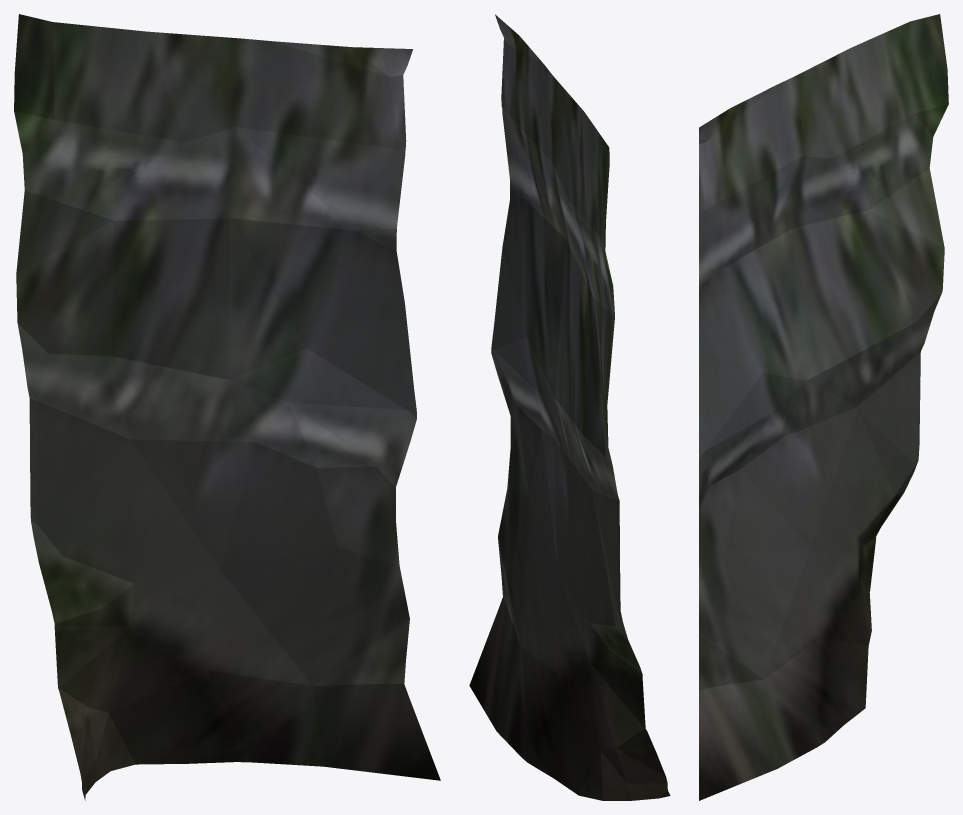
3 renders of one model, left to right at view 1: azimuth 30°, elevation 25°; view 2: azimuth 150°, elevation 25°; view 3: azimuth 270°, elevation 25°, orthographic. The views are drawn at different scales.
Size of the model in its own units: 0.3412 by 0.8373 by 0.2866.
Materials: 1 (1 with a texture image).
